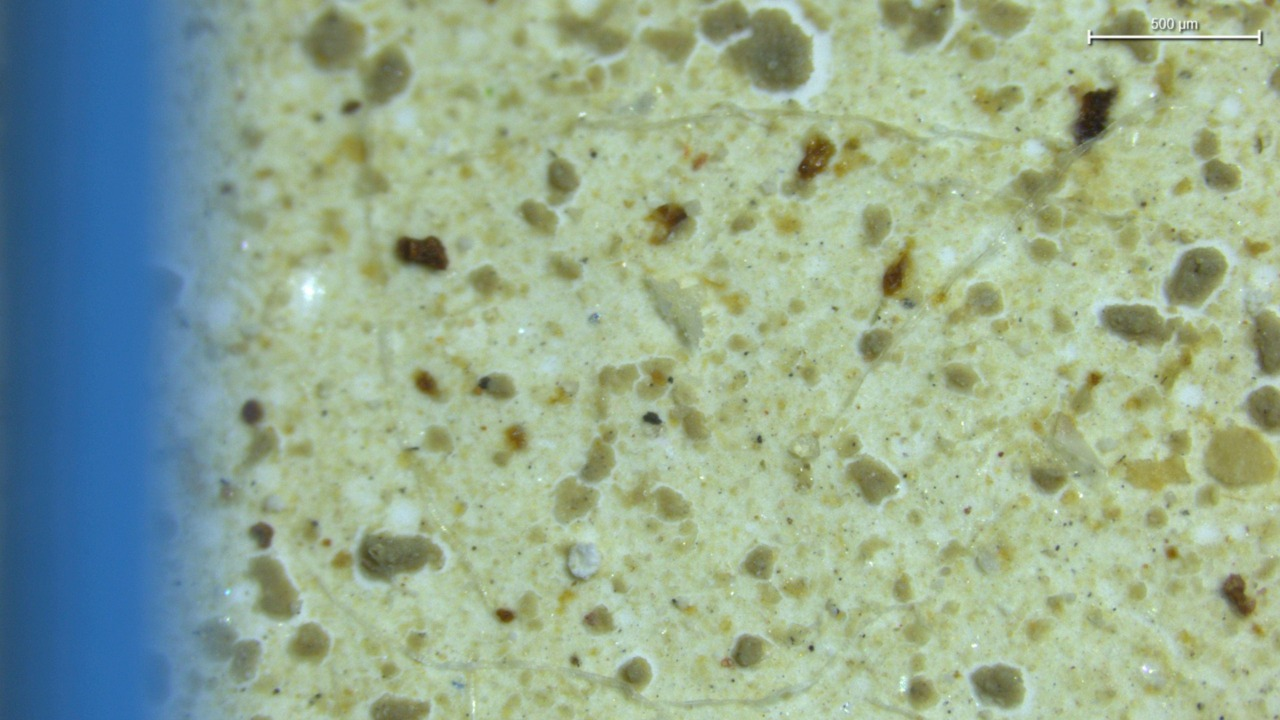microplastic_fragment: (645, 277, 703, 351), (567, 543, 600, 580)
